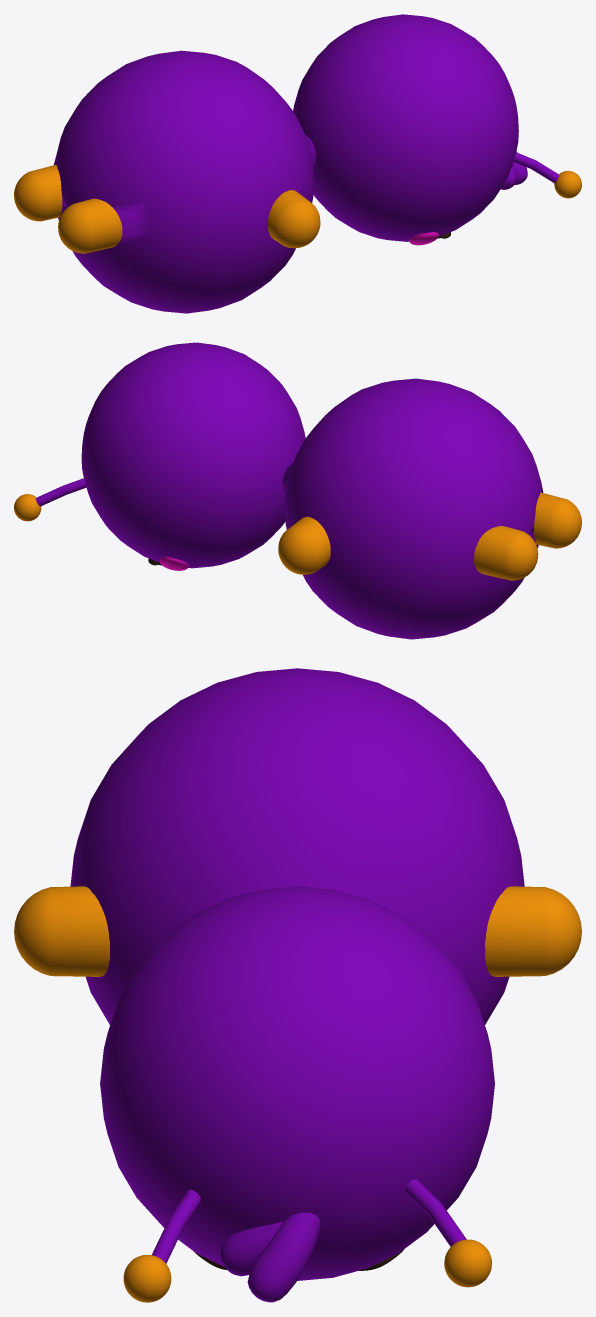
File: main_character__1.fbx
The picture shows the model from 3 angles, top to bottom: view 1: azimuth 30°, elevation 25°; view 2: azimuth 150°, elevation 25°; view 3: azimuth 270°, elevation 25°; orthographic projection. The views are drawn at different scales.
Visible parts, largest first — view 1: Sphere.006; view 2: Sphere.006; view 3: Sphere.006.
Part boxes in pixels (x1,y1,x2,y2): Sphere.006: (14, 14, 581, 313); Sphere.006: (14, 342, 581, 639); Sphere.006: (14, 668, 581, 1302).
Size of the model in its own units: 314 by 144 by 179.
